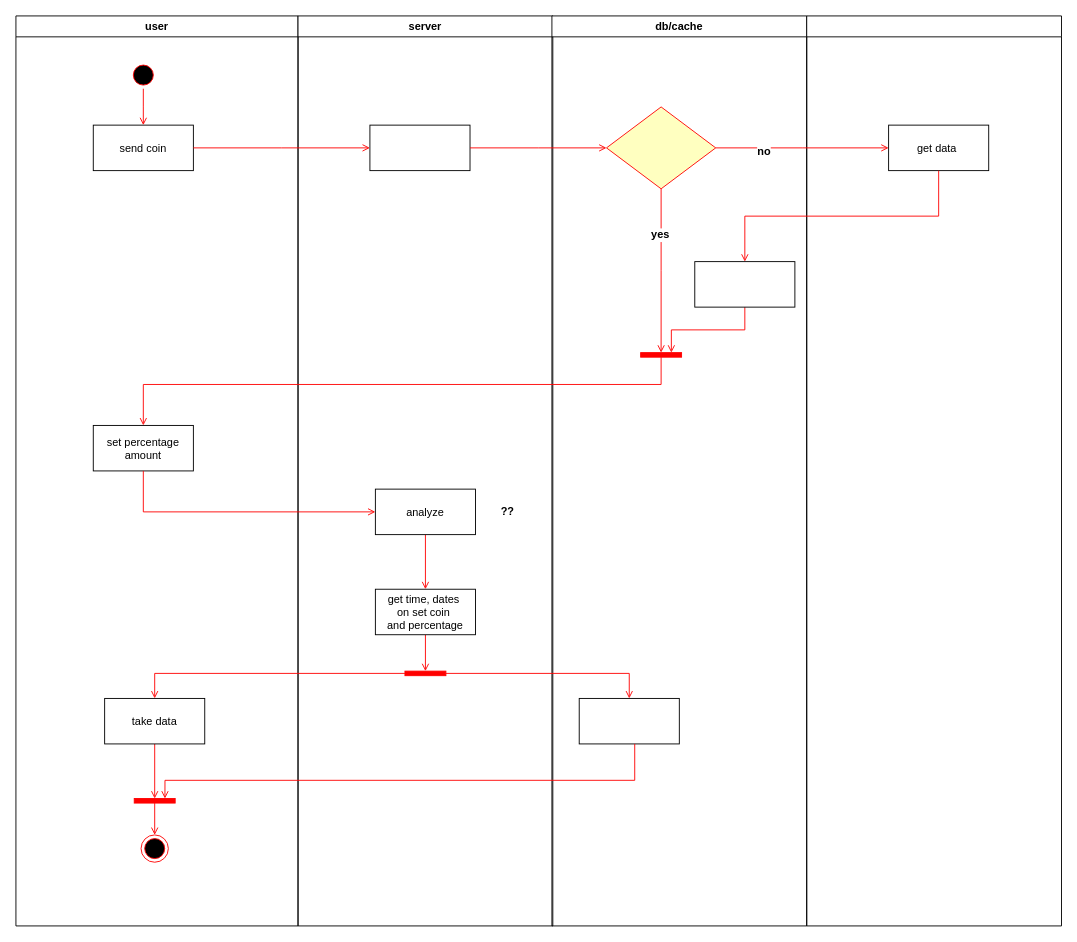
The diagram is 1077 pixels wide and 942 high, and some of its shapes have lost their labels. Each missing label, with the box of its shape:
get trading data of coin: (369, 124, 470, 171)
save to cache: (694, 261, 795, 307)
trading data: (806, 15, 1062, 926)
trading data in cache?: (606, 106, 716, 189)
write data to db: (578, 698, 679, 744)
